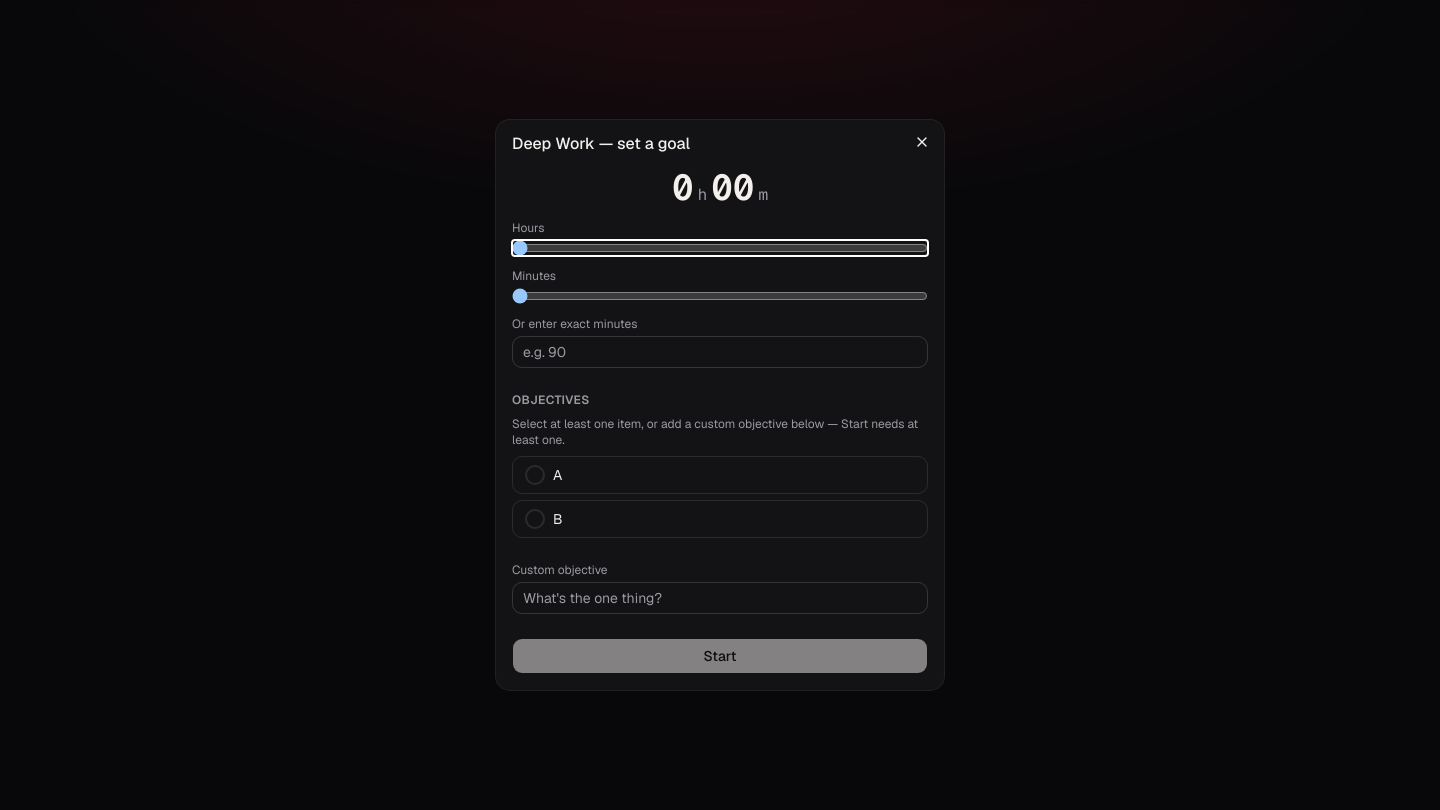
Test: SessionSetupDialog › Deep Work objectives › deselecting an item removes its badge and renumbers nothing else incorrectly
The width and height of the screenshot is (1440, 810).
Expected: the text "A" is shown, [553,466,562,484]
Click the button "A".
click(535, 475)  # box [512,456,928,494]
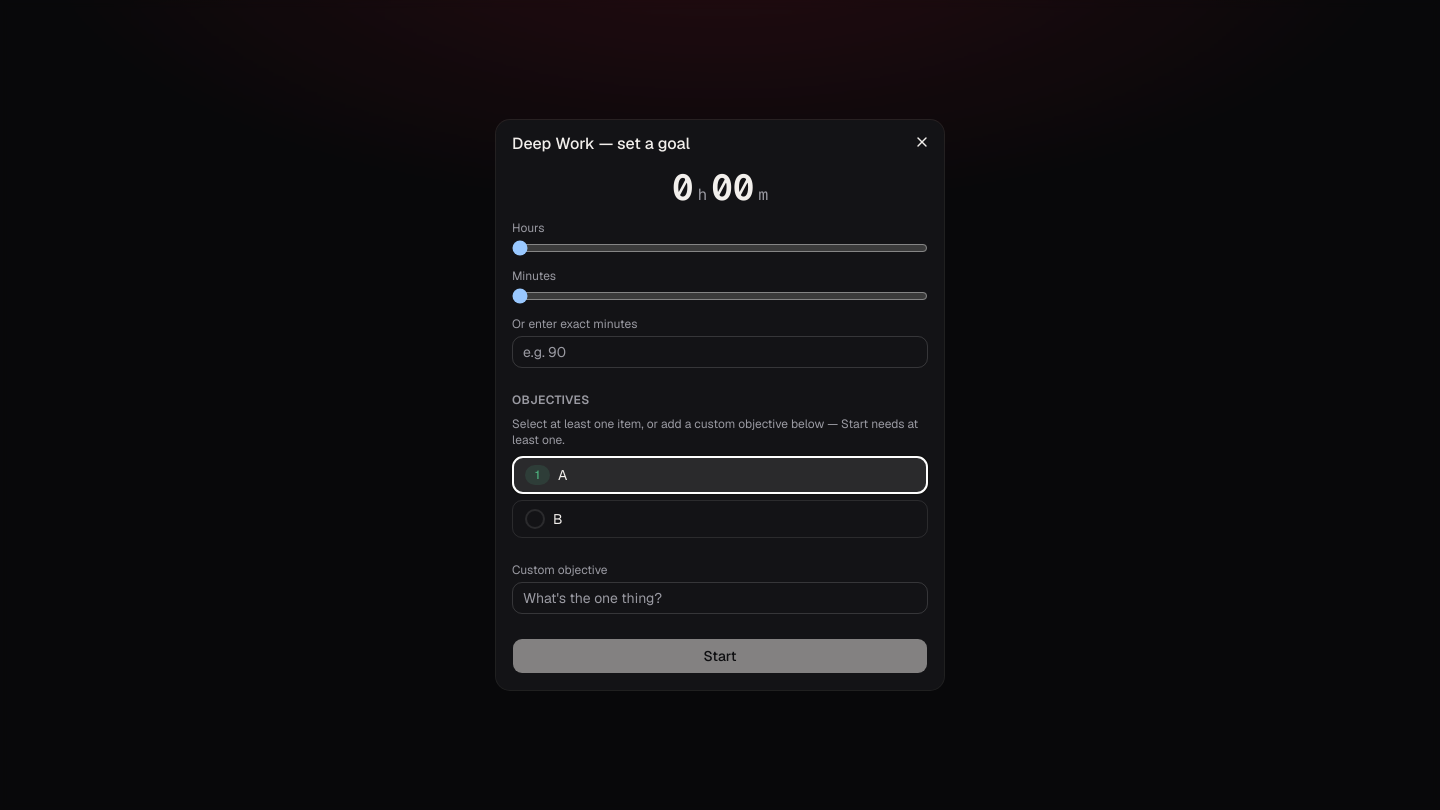
Click the button "B".
click(535, 519)  # box [512,500,928,538]
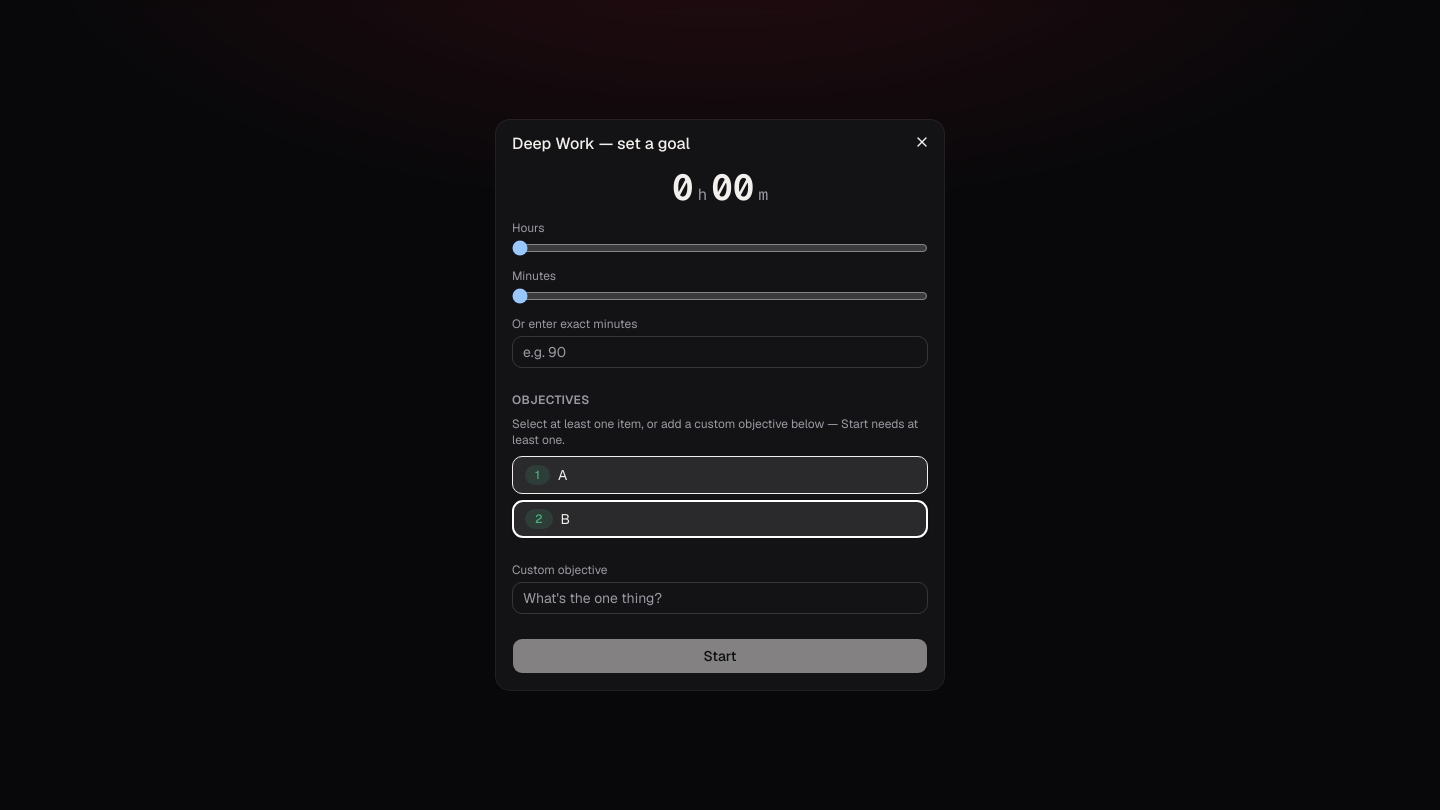
Click the text "A".
click(563, 475)  # box [558,466,567,484]
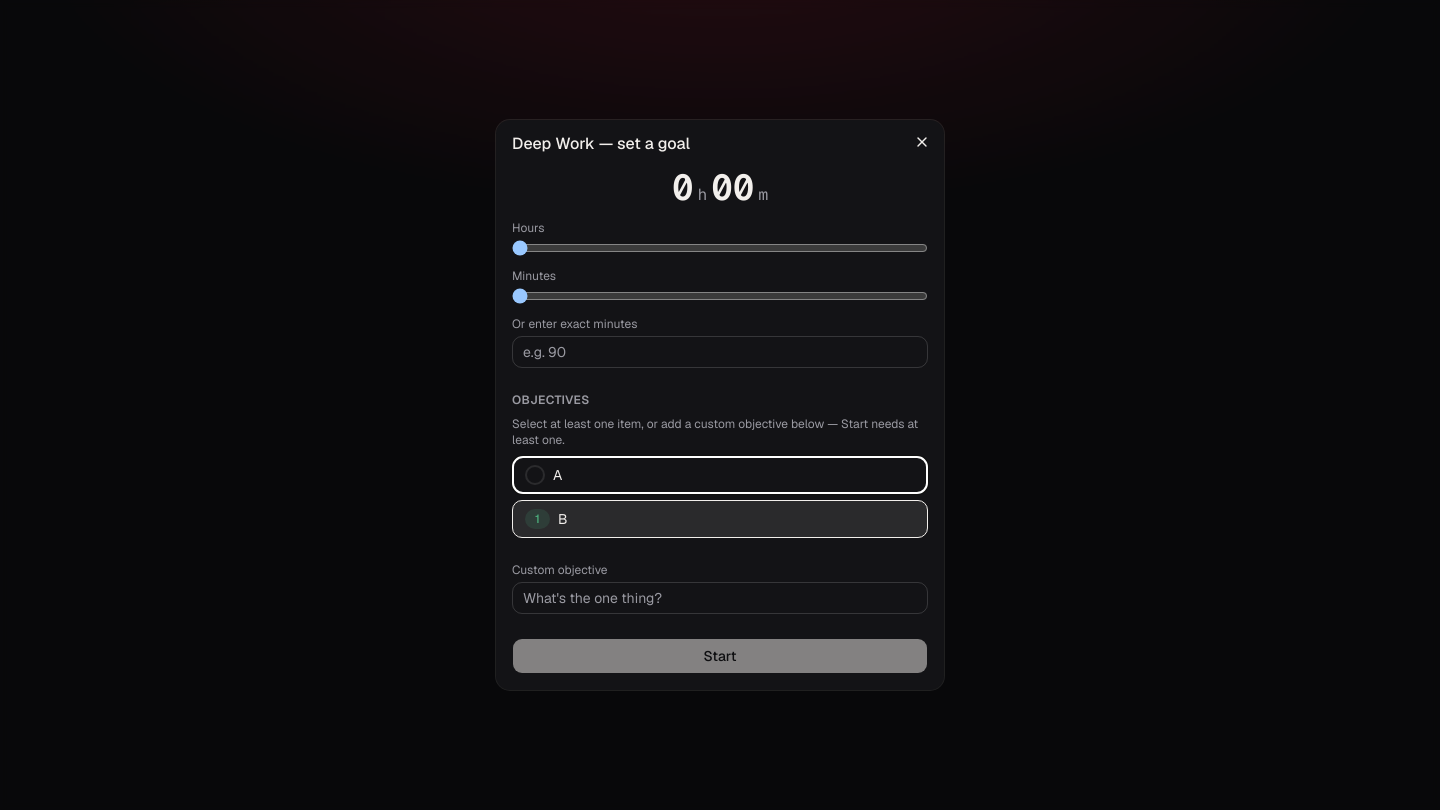
Expected: the button "1 B" is shown, [512,500,928,538]
